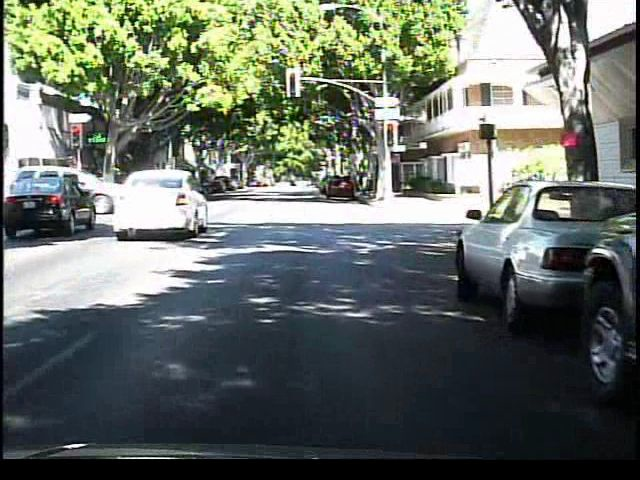person: (82, 163, 107, 208)
